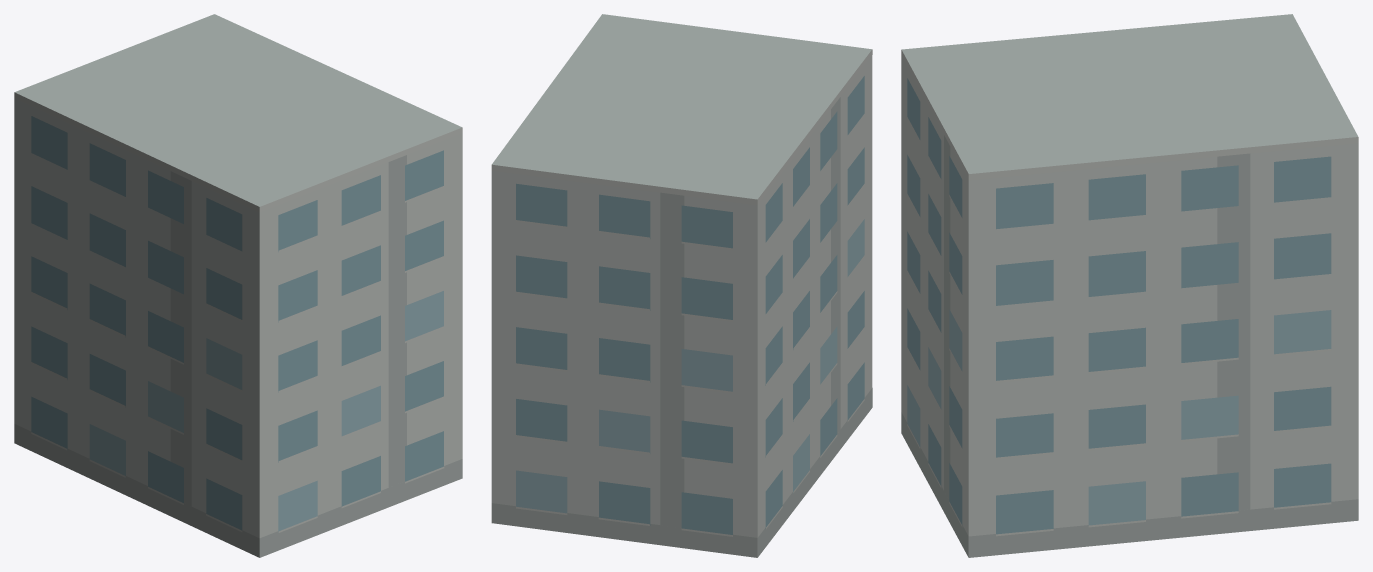
Rendered from survey-upis-32981735.glb.
3 views of the same model, side by side, from view 1: azimuth 30°, elevation 25°; view 2: azimuth 150°, elevation 25°; view 3: azimuth 270°, elevation 25° (orthographic). The views are drawn at different scales.
Visible parts, largest first — view 1: survey-upis-32981735.tmp; view 2: survey-upis-32981735.tmp; view 3: survey-upis-32981735.tmp.
Part boxes in pixels (<box>): survey-upis-32981735.tmp: <box>14,14,462,557</box>; survey-upis-32981735.tmp: <box>491,14,872,557</box>; survey-upis-32981735.tmp: <box>901,14,1358,557</box>.
Bounding box in the file's own units: 13.43 × 15 × 16.2.
